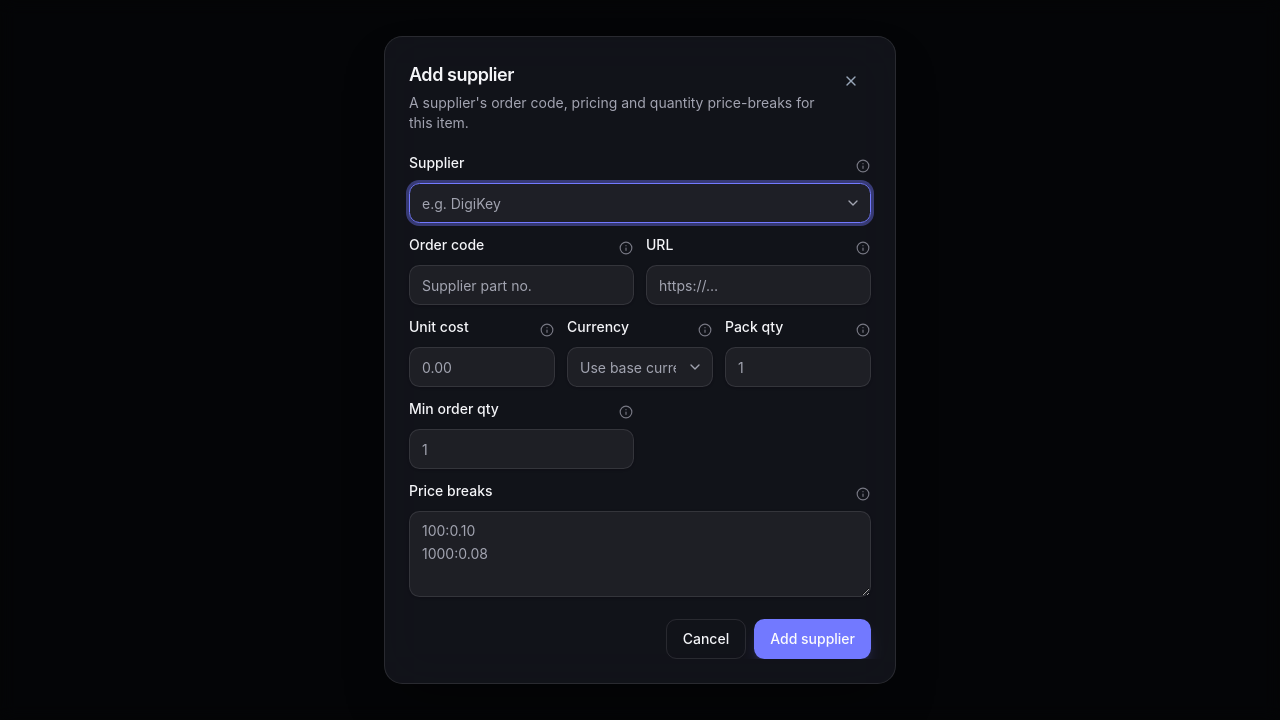
Scenario: SupplierPartFormDialog — the validation gates block submit › rejects a fractional pack quantity (whole numbers only)
In the dropdown with test id "supplier-part-name": [640, 203] box [409, 183, 871, 223], type "DigiKey"
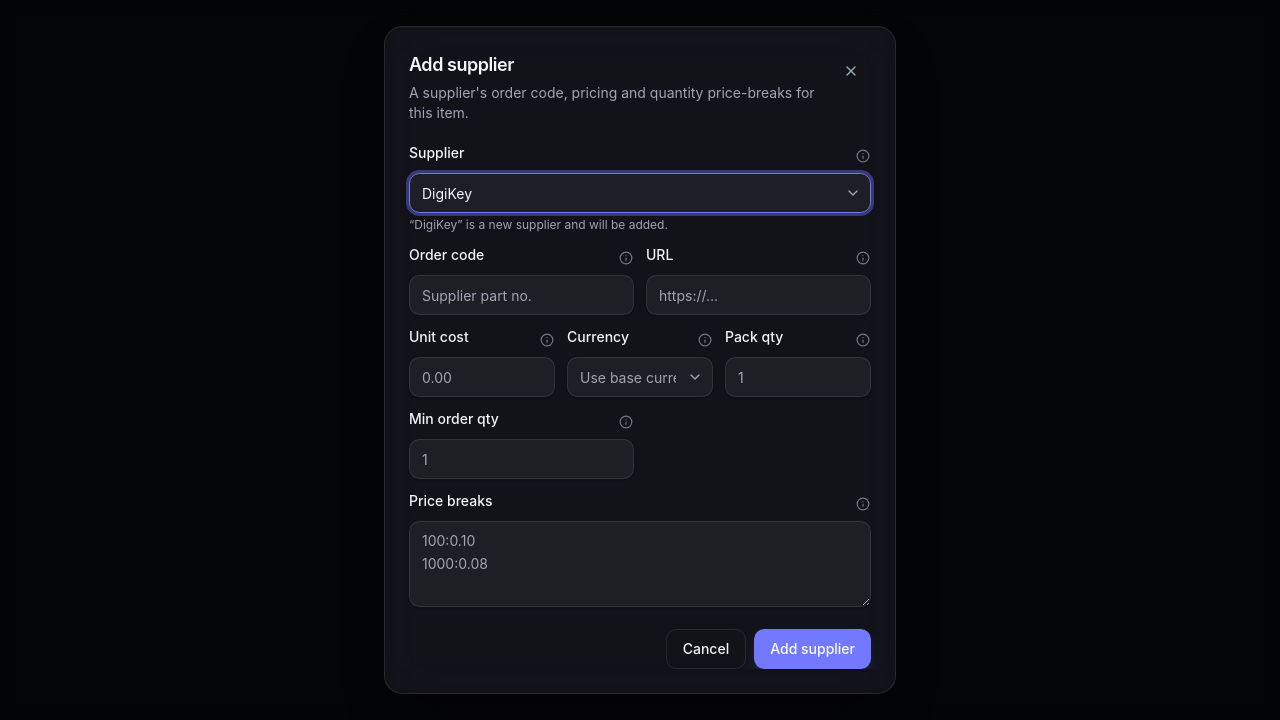
In the field labelled "Pack qty": [798, 377] box [725, 357, 871, 397], type "1.5"
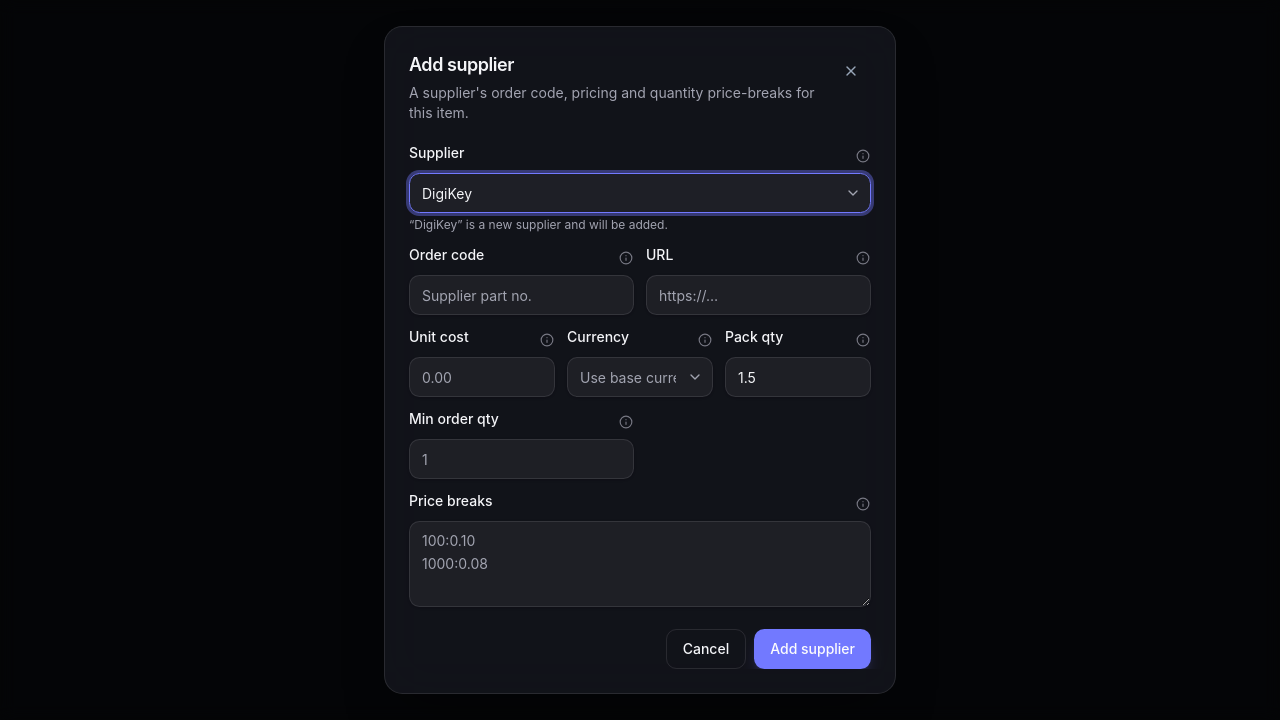
Submit the form with test id "supplier-part-form", box [409, 143, 871, 669]
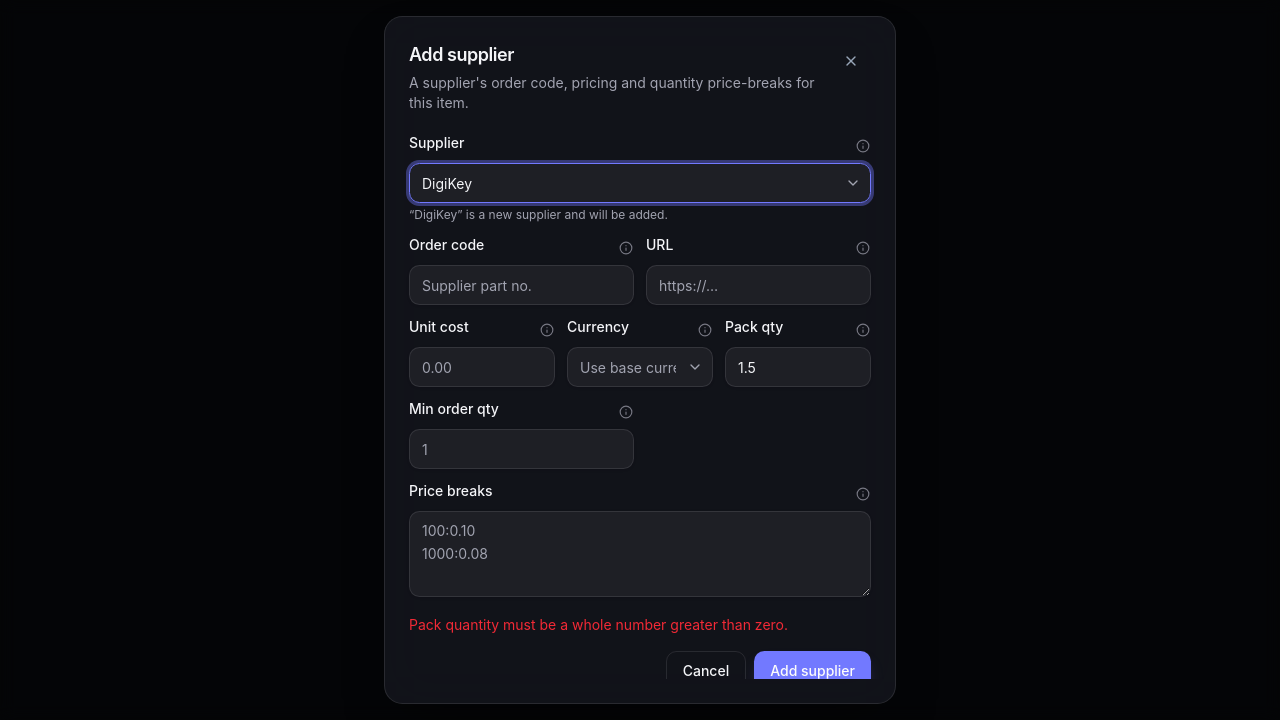
Now the message "Pack quantity must be a whole number greater than zero." is shown, box [409, 616, 788, 633]
